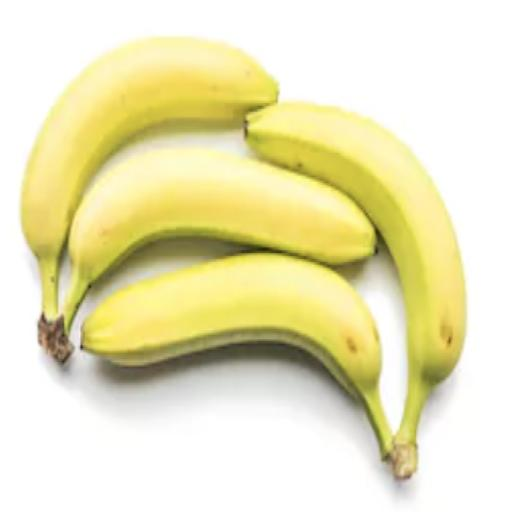banana: (22, 38, 278, 360), (246, 104, 466, 478), (82, 253, 392, 458), (62, 149, 376, 336)
